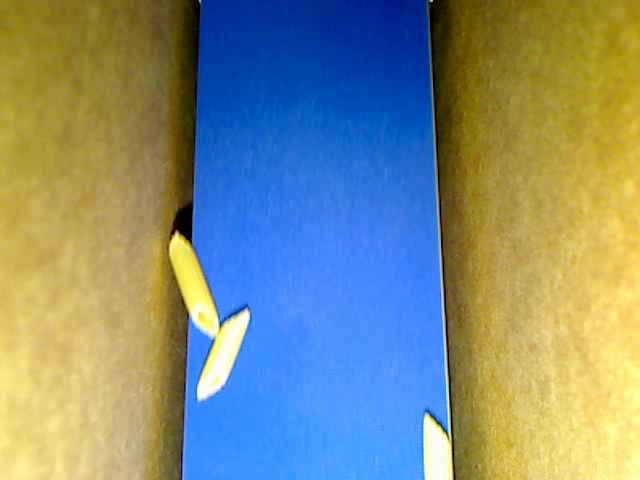penne: (169, 232, 219, 335), (195, 309, 249, 401), (422, 410, 453, 479)
